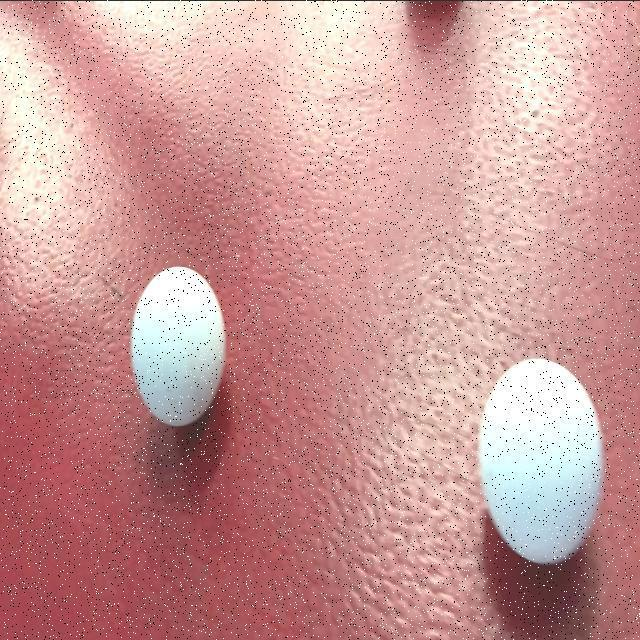ping-pong-ball: (474, 347, 606, 580), (128, 258, 228, 436)
